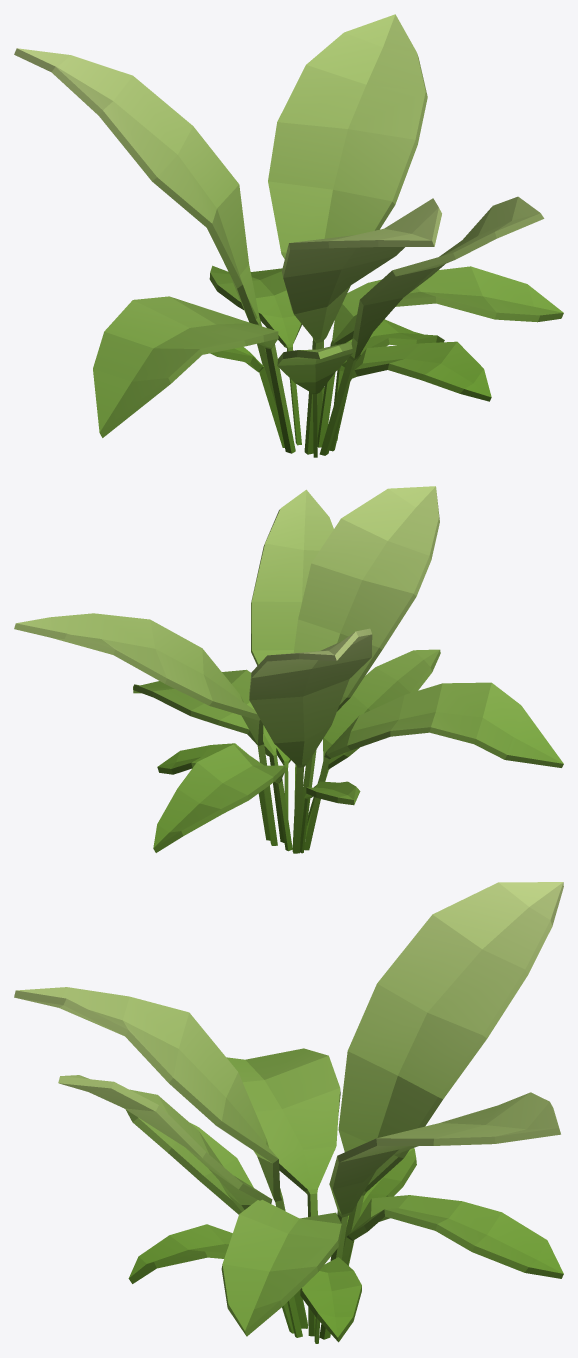
File: shrub-2.glb
3 views of the same model, one above another, from view 1: azimuth 30°, elevation 25°; view 2: azimuth 150°, elevation 25°; view 3: azimuth 270°, elevation 25° (orthographic). The views are drawn at different scales.
Parts seen in each view (by area): view 1: shrub 2; view 2: shrub 2; view 3: shrub 2.
Boxes of the visible parts, left/top/right/bottom form: shrub 2: left=14, top=14, right=563, bottom=457; shrub 2: left=14, top=486, right=563, bottom=853; shrub 2: left=14, top=882, right=563, bottom=1343.
Bounding box in the file's own units: 1.16 × 0.8141 × 1.11.
Materials: 1 (1 with a texture image).
